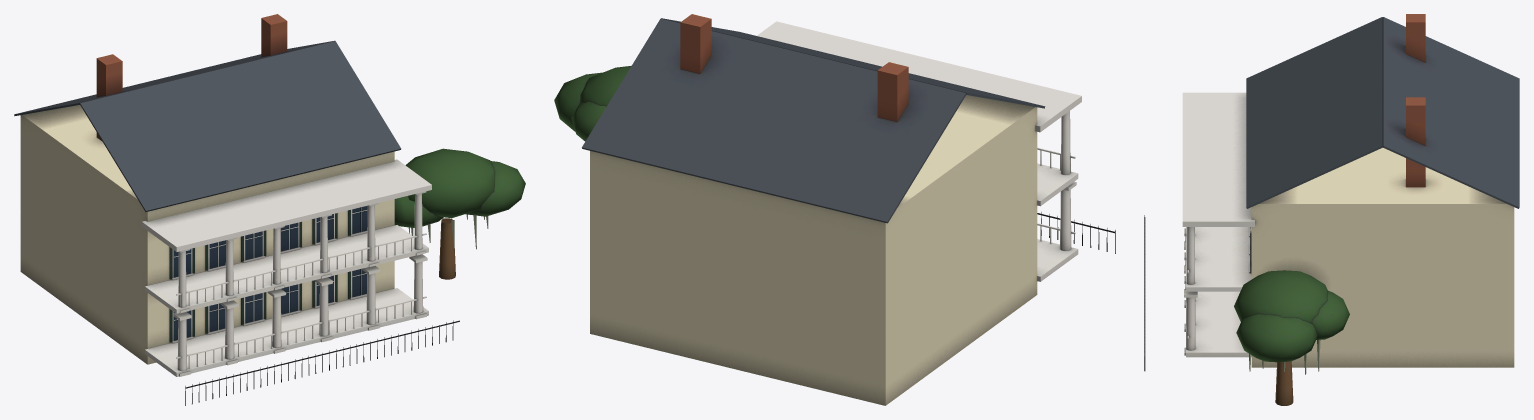
Rendered from casa_battery.glb.
3 views of the same model, side by side, from view 1: azimuth 30°, elevation 25°; view 2: azimuth 150°, elevation 25°; view 3: azimuth 270°, elevation 25° (orthographic). The views are drawn at different scales.
Parts seen in each view (by area): view 1: casa_battery; view 2: casa_battery; view 3: casa_battery.
Boxes of the visible parts, x1,y1,x2,y2 form: casa_battery: [14, 14, 525, 405]; casa_battery: [554, 14, 1115, 405]; casa_battery: [1144, 14, 1519, 405].
Bounding box in the file's own units: 29.06 × 16.5 × 22.86.
Materials: 1 (1 with a texture image).
